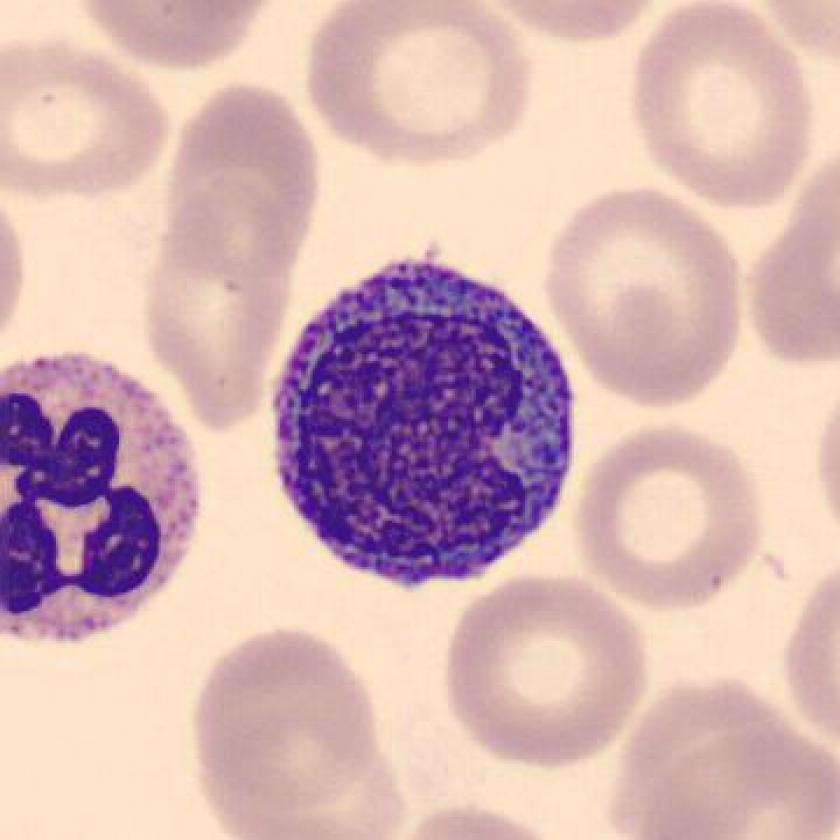monocyte: (260, 232, 596, 612)
